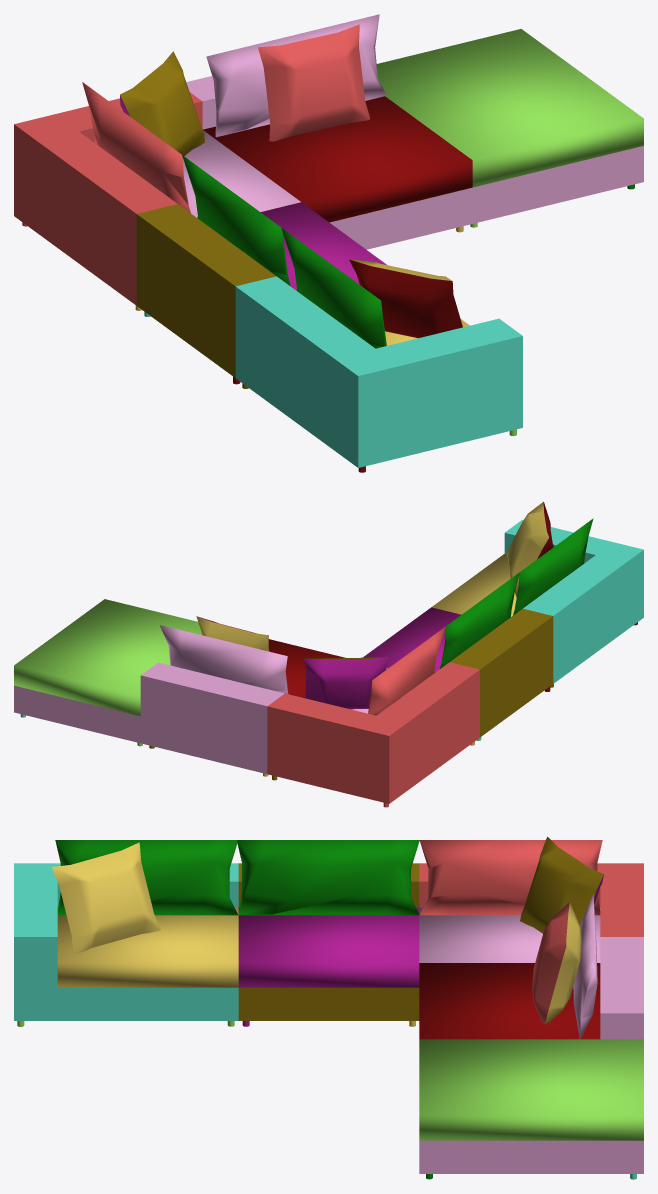
File: Sofa.obj
The picture shows the model from 3 angles, top to bottom: view 1: azimuth 30°, elevation 25°; view 2: azimuth 150°, elevation 25°; view 3: azimuth 270°, elevation 25°; orthographic projection. The views are drawn at different scales.
Parts seen in each view (by area): view 1: Component_24_002, Component_29_001, Component_26_001, Component_24_001, Component_25_001, Group_006, Component_22_001, Component_30_001, Component_27_001, Group_001, Component_22_005, Component_22_003 (+4 smaller); view 2: Component_24_001, Component_29_001, Component_27_001, Component_24_002, Component_25_001, Component_22_001, Component_30_001, Group_003, Component_22_007, Component_22_003, Component_22_005, Component_20_001 (+4 smaller); view 3: Component_29_001, Component_24_002, Component_20_001, Component_22_003, Component_20_003, Component_26_001, Component_22_005, Component_22_007, Component_30_001, Group_002, Component_25_001, Component_20_002 (+6 smaller).
Part boxes in pixels (<box>): Component_24_002: <box>235,276,522,467</box>; Component_29_001: <box>376,29,643,187</box>; Component_26_001: <box>203,96,472,222</box>; Component_24_001: <box>14,92,202,305</box>; Component_25_001: <box>136,204,276,377</box>; Group_006: <box>258,24,370,141</box>; Component_22_001: <box>206,14,386,137</box>; Component_30_001: <box>472,146,643,223</box>; Component_27_001: <box>186,76,472,249</box>; Group_001: <box>349,259,462,338</box>; Component_22_005: <box>82,82,190,213</box>; Component_22_003: <box>182,155,290,285</box>; Component_24_001: <box>267,662,479,803</box>; Component_29_001: <box>14,599,201,716</box>; Component_27_001: <box>140,662,284,773</box>; Component_24_002: <box>504,520,643,683</box>; Component_25_001: <box>450,608,553,737</box>; Component_22_001: <box>159,625,288,694</box>; Component_30_001: <box>14,685,140,743</box>; Group_003: <box>303,657,388,709</box>; Component_22_007: <box>513,518,593,615</box>; Component_22_003: <box>440,572,519,668</box>; Component_22_005: <box>368,626,446,715</box>; Component_20_001: <box>363,607,461,672</box>; Component_29_001: <box>419,1039,643,1140</box>; Component_24_002: <box>14,863,238,1020</box>; Component_20_001: <box>238,907,419,987</box>; Component_22_003: <box>237,840,419,915</box>; Component_20_003: <box>57,907,238,987</box>; Component_26_001: <box>419,963,600,1039</box>; Component_22_005: <box>419,840,602,915</box>; Component_22_007: <box>55,840,238,915</box>; Component_30_001: <box>419,1140,643,1173</box>; Group_002: <box>51,842,160,954</box>; Component_25_001: <box>238,863,419,1020</box>; Component_20_002: <box>419,907,600,962</box>.
Bounding box in the file's own units: 2972 × 878 × 3492.
